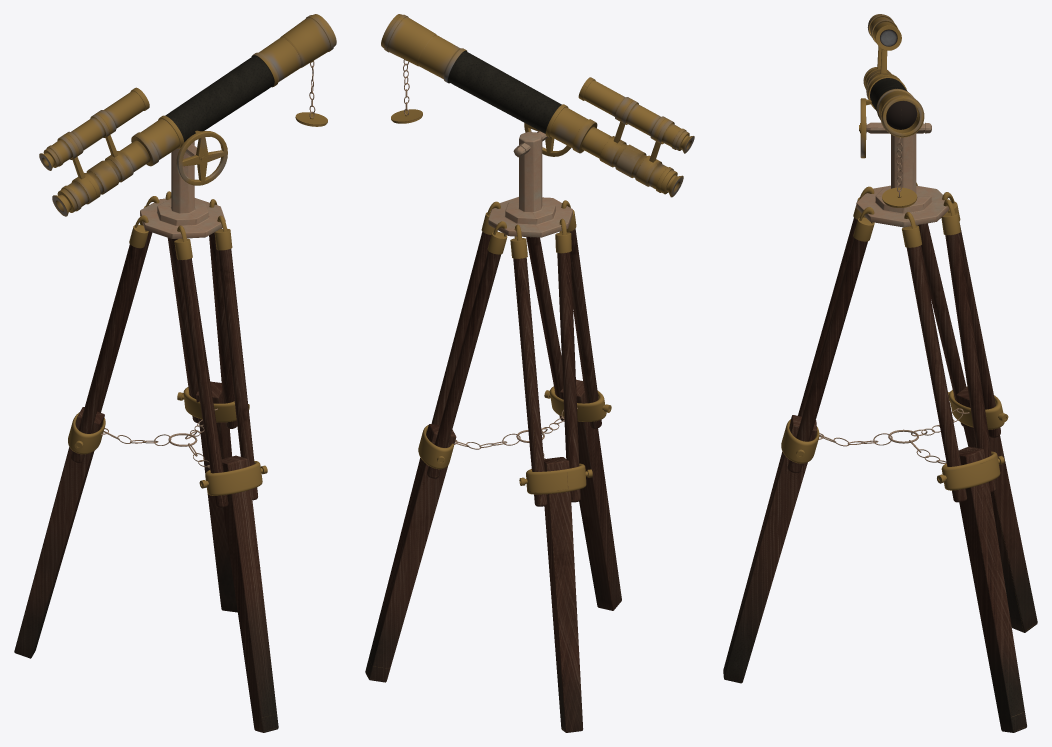
Rendered from medieval_telescope.glb.
The picture shows the model from 3 angles, left to right: view 1: azimuth 30°, elevation 25°; view 2: azimuth 150°, elevation 25°; view 3: azimuth 270°, elevation 25°; orthographic projection. The views are drawn at different scales.
Visible parts, largest first — view 1: telescope_2; view 2: telescope_2; view 3: telescope_2.
Boxes of the visible parts, left/top/right/bottom form: telescope_2: left=14, top=14, right=336, bottom=732; telescope_2: left=365, top=14, right=694, bottom=732; telescope_2: left=723, top=14, right=1037, bottom=732.
Bounding box in the file's own units: 80 × 160 × 70.
1 material, 1 textured.
